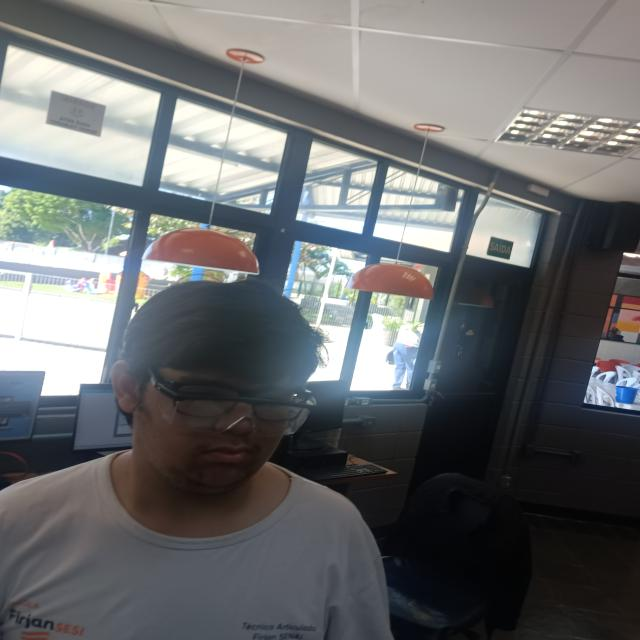oculos-epi: (149, 369, 315, 437)
